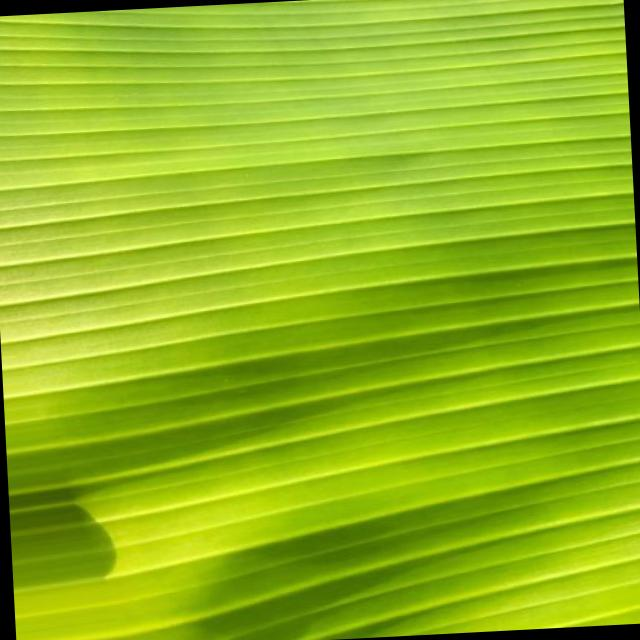Banana_Healthy: (88, 63, 548, 539)
